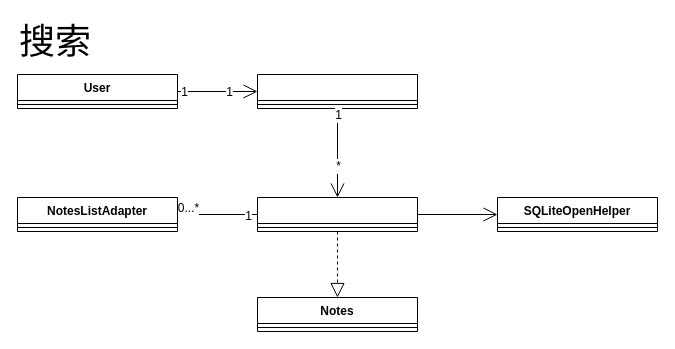
The diagram is 675 pixels wide and 349 high, and some of its shapes have lost their labels. The centre of each missing label's shape, as x and y in pixels:
"AlarmReceiver" belongs at pixel 337 214.
"SearchBar" belongs at pixel 337 91.
